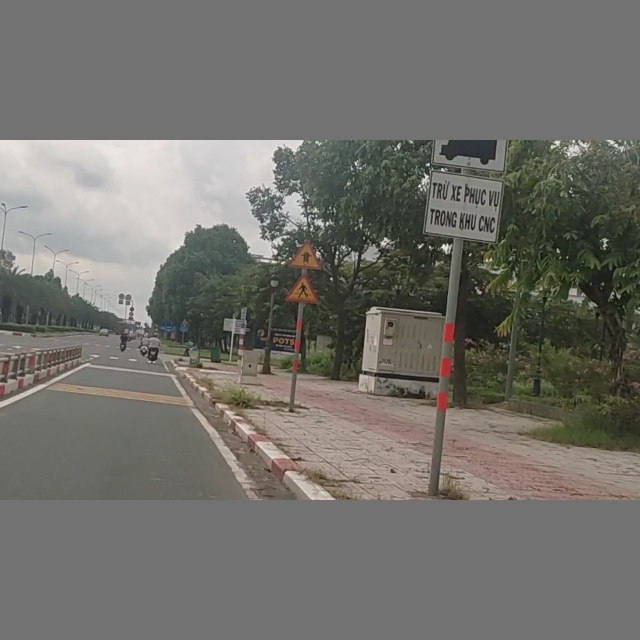W.207: (289, 239, 323, 270)
W.224: (285, 273, 319, 304)
